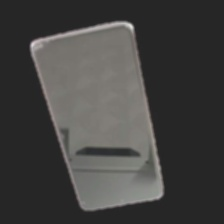phone: (26, 17, 166, 215)
